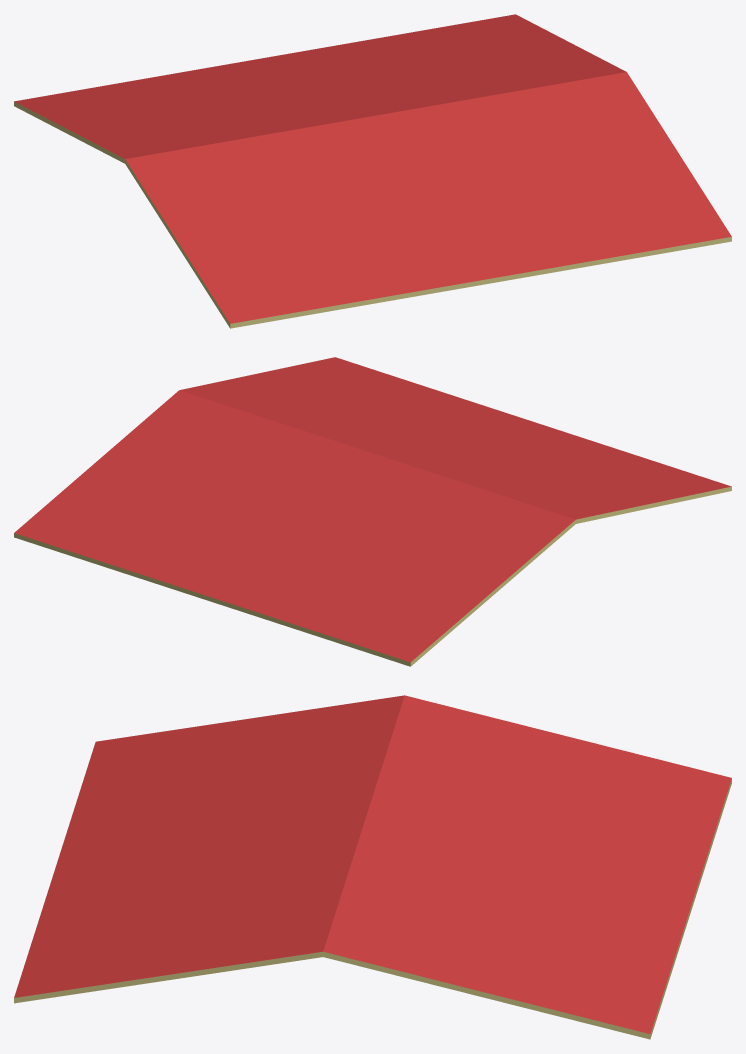
3 renders of one model, top to bottom at view 1: azimuth 30°, elevation 25°; view 2: azimuth 150°, elevation 25°; view 3: azimuth 270°, elevation 25°, orthographic. The views are drawn at different scales.
Size of the model in its own units: 11.63 by 12.06 by 1.29.
